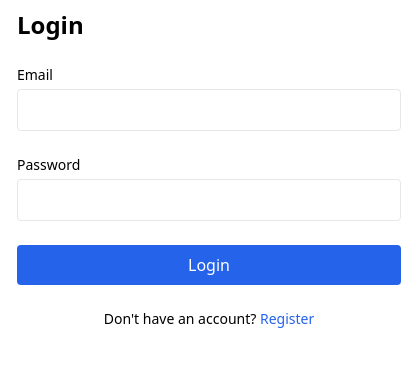
Scenario: Login › login failure shows inline error and does not redirect
Type "alice@example.com" into the field labelled "Email" at coordinates (209, 110), box [17,89,401,131]
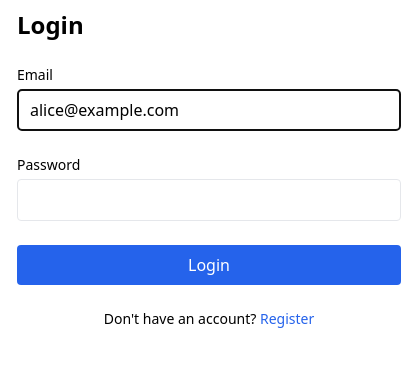
Type "wrongpassword" into the password field labelled "Password" at coordinates (209, 200), box [17,179,401,221]
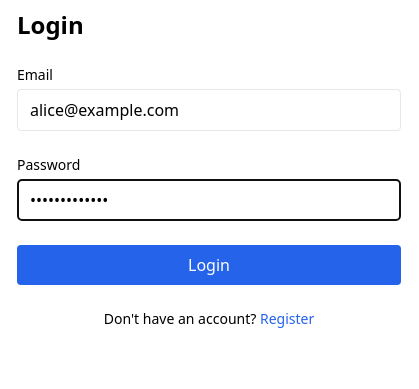
Click the button "Login" at coordinates (209, 265), box [17,245,401,285]
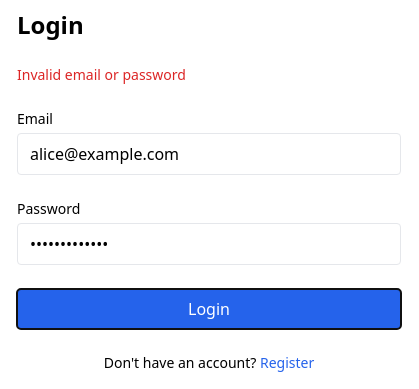
Expected: the text "Invalid email or password" is shown, [17,65,186,84]
